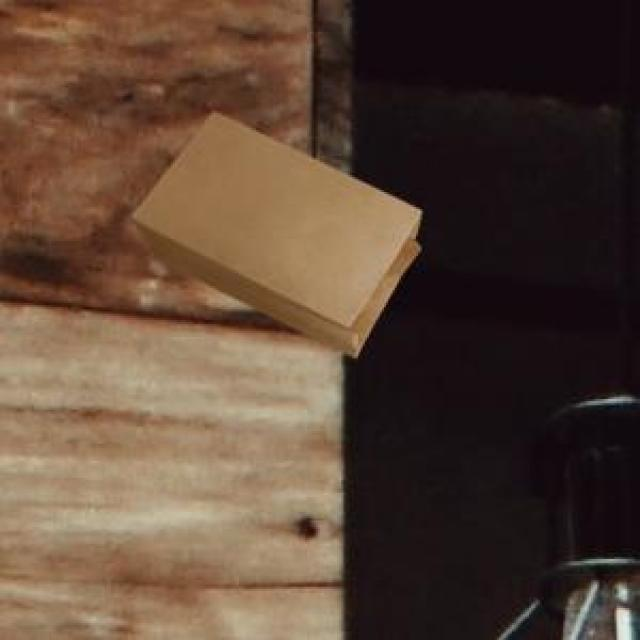paper: (128, 109, 416, 354)
